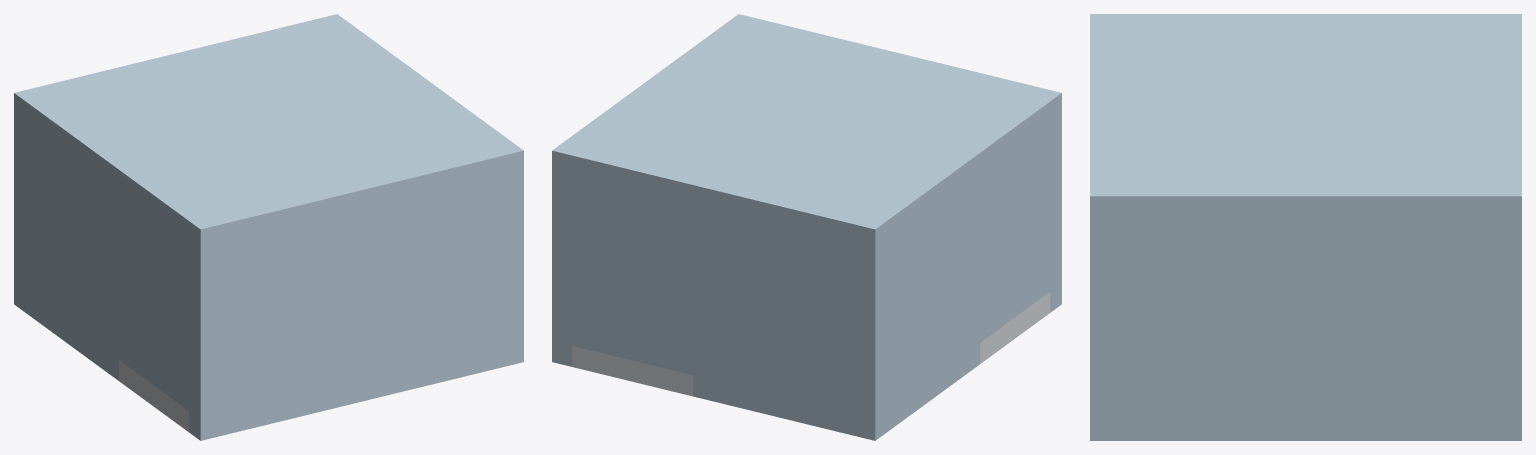
Rendered from ice-grotto.glb.
3 views of the same model, side by side, from view 1: azimuth 30°, elevation 25°; view 2: azimuth 150°, elevation 25°; view 3: azimuth 270°, elevation 25° (orthographic). The views are drawn at different scales.
Parts seen in each view (by area): view 1: ice-rock_9, ice-rock_6, ice-rock_4, plug_ice_west, ice-rock_5, ice-rock_3, ice-rock_2, ice-rock_8, ice-rock_1, snow_7; view 2: ice-rock_9, ice-rock_1, plug_ice_north, ice-rock_4, plug_ice_west, ice-rock_7, ice-rock_3, ice-rock_2, ice-rock_8, snow_1, ice-rock_6, snow_7; view 3: ice-rock_2, ice-rock_9.
Boxes of the visible parts, x1,y1,x2,y2 form: ice-rock_9: [14, 14, 523, 250]; ice-rock_6: [189, 186, 463, 440]; ice-rock_4: [49, 140, 118, 380]; plug_ice_west: [119, 233, 188, 410]; ice-rock_5: [463, 177, 503, 376]; ice-rock_3: [25, 123, 48, 329]; ice-rock_2: [503, 172, 523, 366]; ice-rock_8: [119, 191, 188, 283]; ice-rock_1: [14, 114, 25, 312]; snow_7: [119, 360, 188, 431]; ice-rock_9: [552, 14, 1061, 250]; ice-rock_1: [693, 206, 886, 440]; plug_ice_north: [572, 219, 693, 375]; ice-rock_4: [910, 174, 980, 414]; plug_ice_west: [980, 165, 1050, 342]; ice-rock_7: [572, 177, 693, 248]; ice-rock_3: [887, 225, 910, 431]; ice-rock_2: [552, 172, 572, 366]; ice-rock_8: [980, 123, 1050, 215]; snow_1: [572, 346, 693, 396]; ice-rock_6: [1050, 114, 1061, 312]; snow_7: [980, 292, 1050, 363]; ice-rock_2: [1090, 221, 1521, 440]; ice-rock_9: [1090, 14, 1521, 220].
Size of the model in its own units: 8 by 5 by 8.
